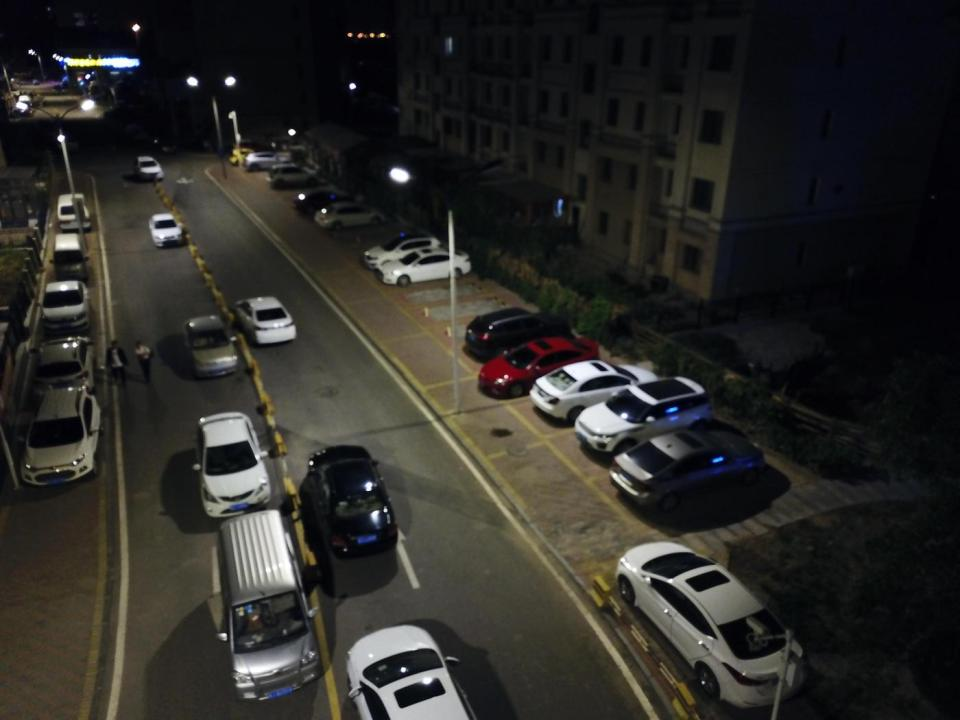car: (615, 537, 811, 711), (606, 428, 766, 513), (344, 623, 480, 720), (571, 375, 717, 455), (308, 443, 397, 562), (16, 387, 103, 489), (528, 361, 667, 424), (191, 410, 272, 518), (477, 340, 606, 399), (465, 307, 572, 360), (28, 332, 96, 398), (178, 314, 242, 378), (374, 248, 474, 284), (233, 294, 300, 347), (37, 278, 92, 335), (362, 231, 443, 268), (316, 200, 388, 229), (146, 212, 186, 249), (56, 190, 92, 231), (296, 189, 352, 212), (267, 165, 317, 189), (242, 150, 293, 172), (230, 139, 276, 161), (133, 153, 163, 180), (229, 146, 263, 165), (55, 129, 81, 151), (154, 136, 178, 156), (123, 124, 147, 143), (31, 78, 40, 86)
van: (214, 510, 322, 705), (49, 232, 90, 277)
